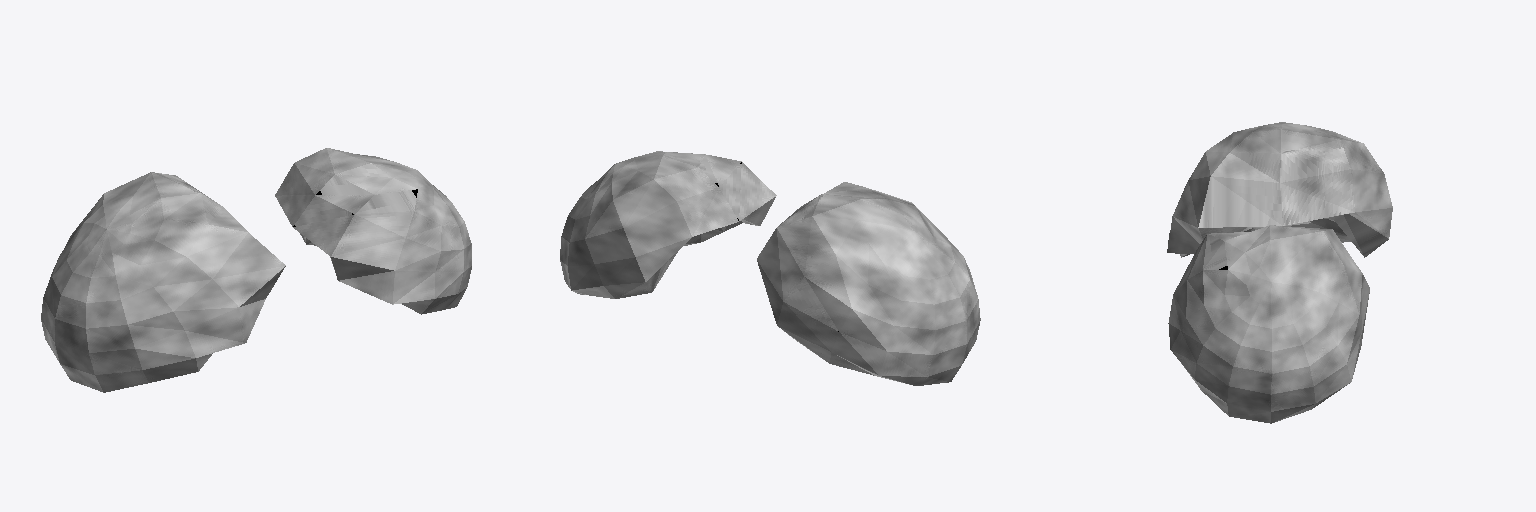
3 views of the same model, side by side, from view 1: azimuth 30°, elevation 25°; view 2: azimuth 150°, elevation 25°; view 3: azimuth 270°, elevation 25° (orthographic).
Visible parts, largest first — view 1: Mesh.001_Sphere.001_Sphere.002; view 2: Mesh.001_Sphere.001_Sphere.002; view 3: Mesh.001_Sphere.001_Sphere.002.
Boxes of the visible parts, x1,y1,x2,y2 form: Mesh.001_Sphere.001_Sphere.002: [41, 148, 471, 392]; Mesh.001_Sphere.001_Sphere.002: [560, 151, 980, 385]; Mesh.001_Sphere.001_Sphere.002: [1167, 122, 1392, 423].
Size of the model in its own units: 0.6782 by 0.2604 by 0.331.
1 materials, 1 textured.